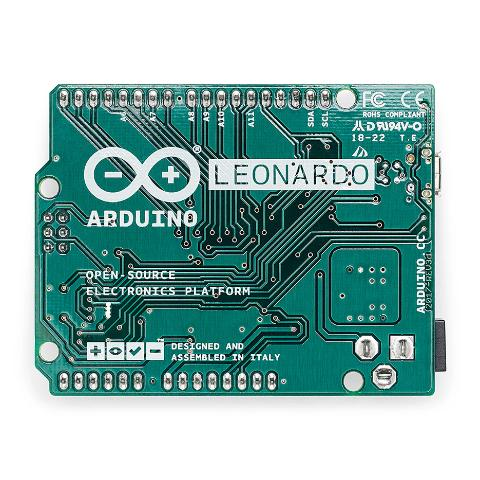Arduino-Leonardo: (24, 73, 450, 406)
